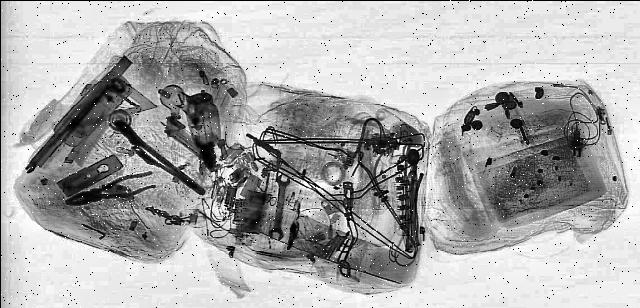Pliers: (53, 168, 167, 210)
Wrench: (265, 174, 291, 238)
